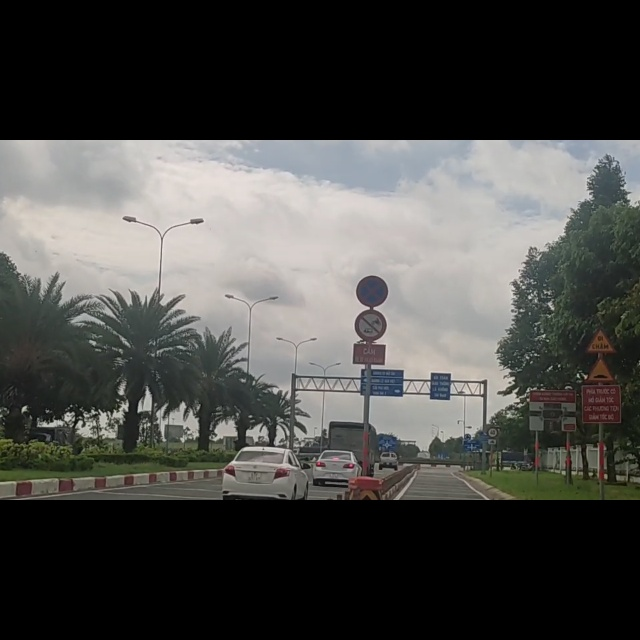bien_cam: (355, 238, 390, 295), (354, 301, 387, 360), (587, 332, 617, 379), (585, 383, 613, 430)
